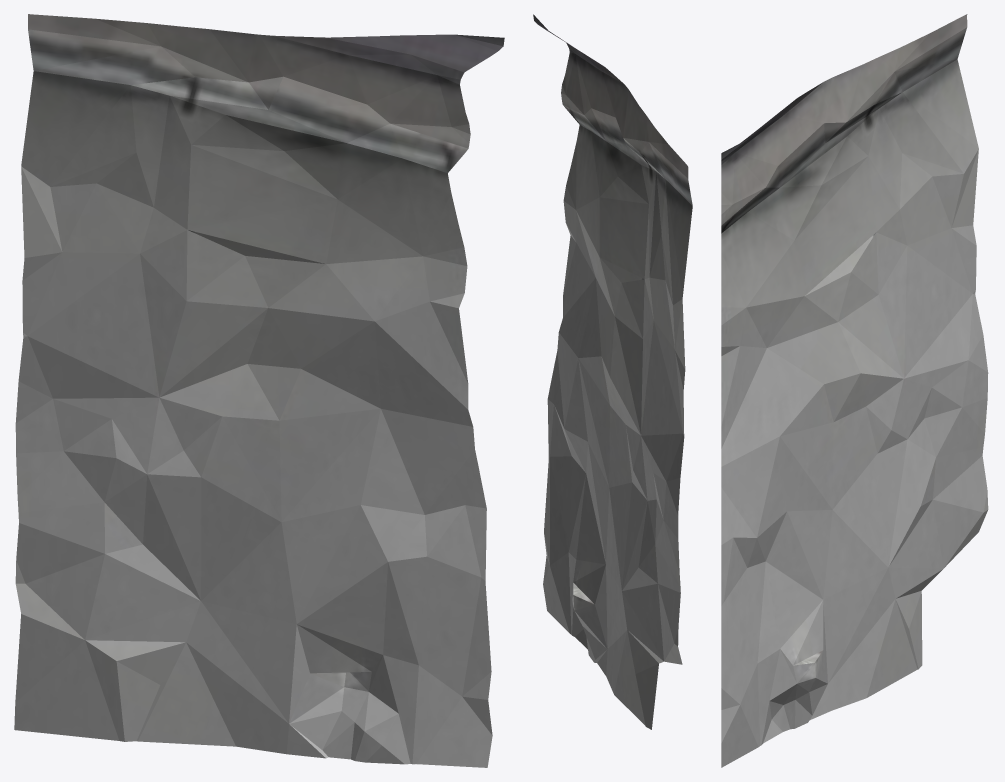
3 renders of one model, left to right at view 1: azimuth 30°, elevation 25°; view 2: azimuth 150°, elevation 25°; view 3: azimuth 270°, elevation 25°, orthographic. The views are drawn at different scales.
Size of the model in its own units: 0.4021 by 0.8374 by 0.3286.
Materials: 2 (2 with a texture image).
